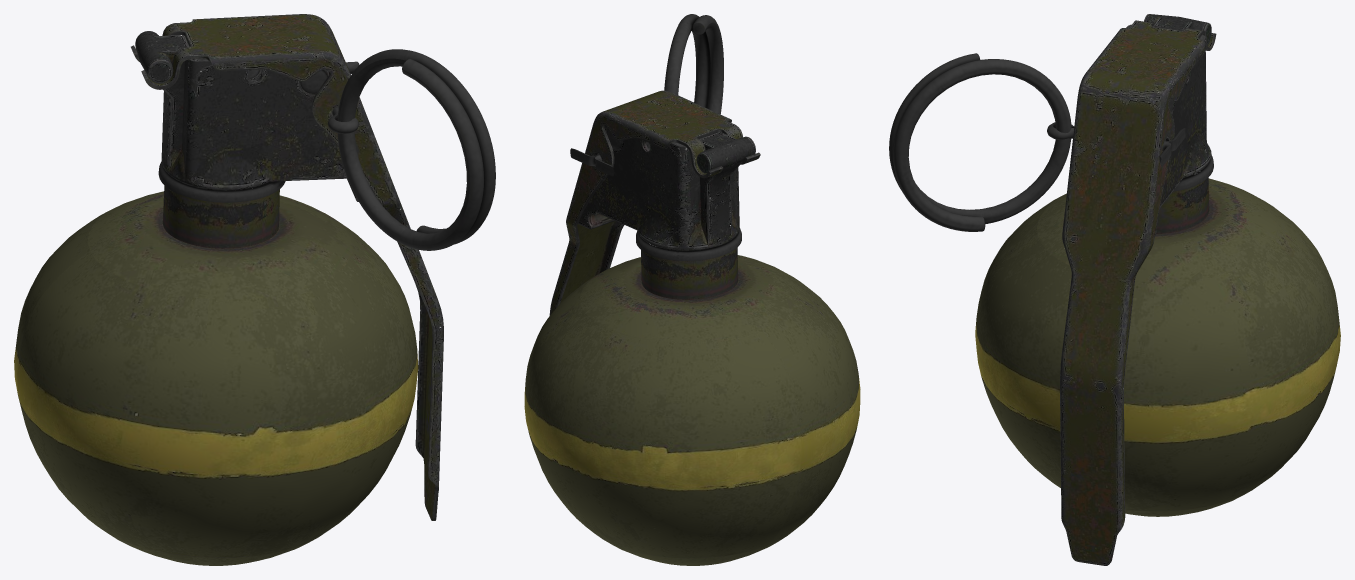
The model's file is hegrenade_r.glb.
3 renders of one model, left to right at view 1: azimuth 30°, elevation 25°; view 2: azimuth 150°, elevation 25°; view 3: azimuth 270°, elevation 25°, orthographic. The views are drawn at different scales.
Parts seen in each view (by area): view 1: v_hegrenade_R; view 2: v_hegrenade_R; view 3: v_hegrenade_R.
Boxes of the visible parts, x1,y1,x2,y2 form: v_hegrenade_R: [14, 14, 495, 565]; v_hegrenade_R: [524, 14, 860, 565]; v_hegrenade_R: [889, 14, 1340, 565].
Size of the model in its own units: 0.0888 by 0.1244 by 0.1042.
Materials: 1 (1 with a texture image).
